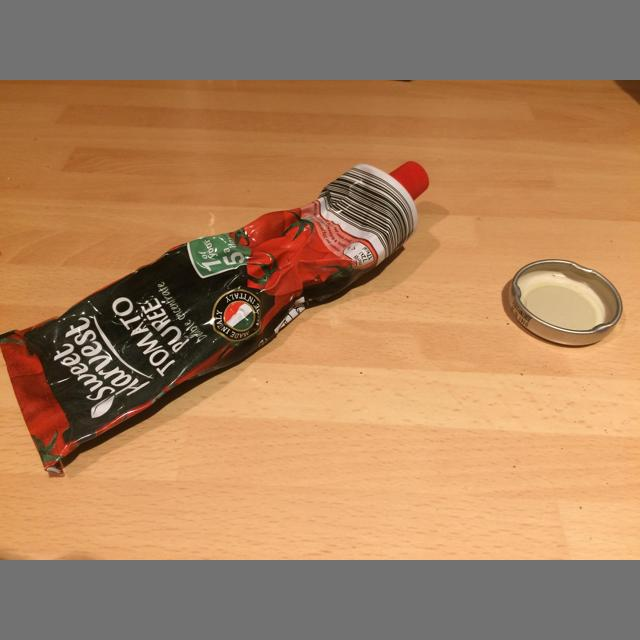litter: (0, 161, 429, 475), (508, 259, 623, 346)
